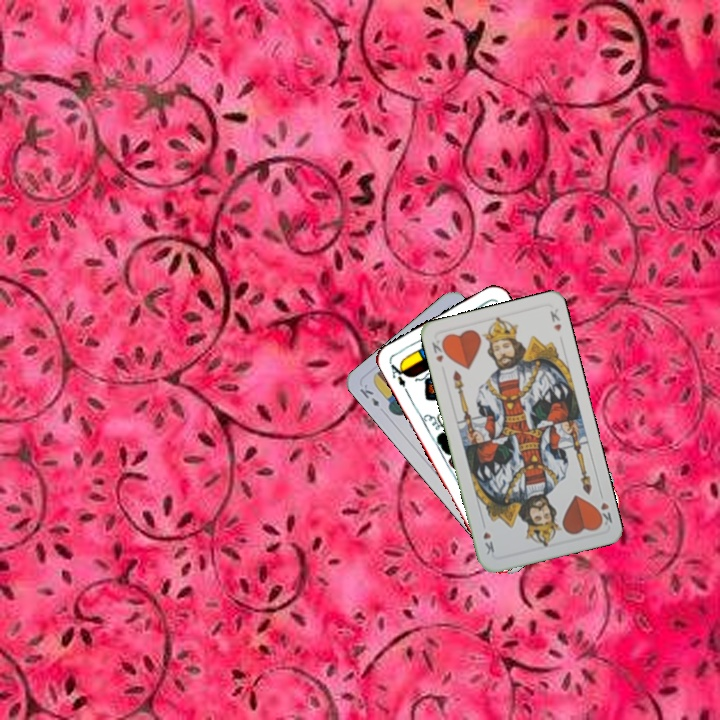EA: (385, 358, 411, 395)
EK: (355, 380, 382, 409)
HK: (592, 488, 615, 530), (427, 334, 450, 365)
